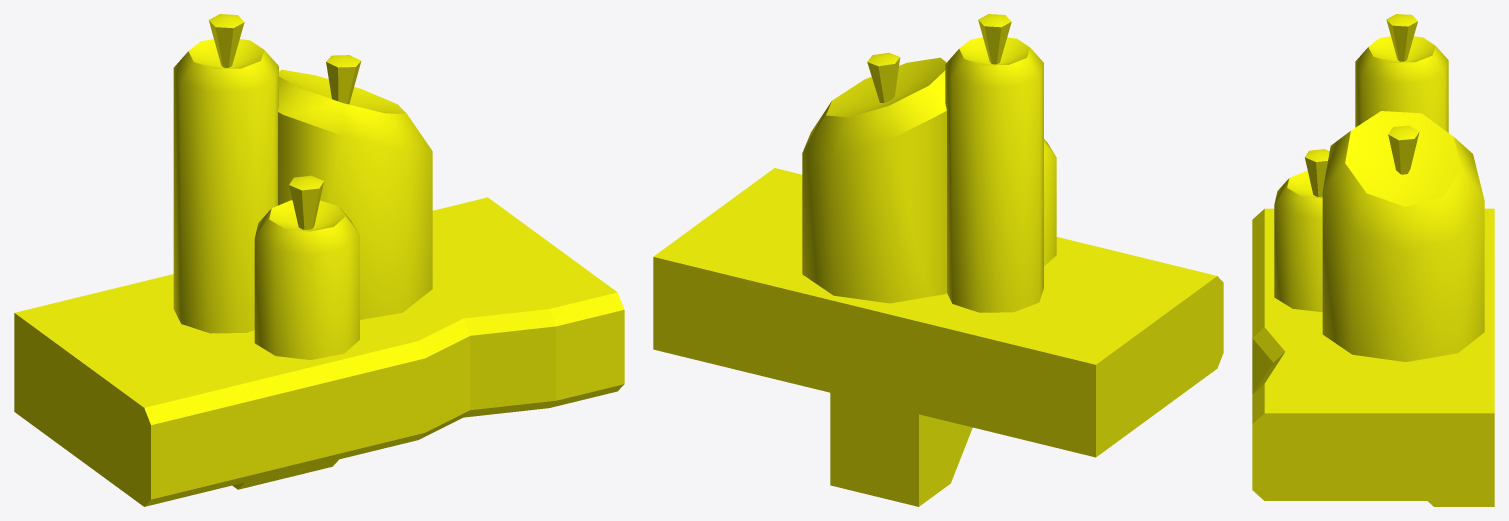
File: kaykit-shelf-small-candles.glb
3 renders of one model, left to right at view 1: azimuth 30°, elevation 25°; view 2: azimuth 150°, elevation 25°; view 3: azimuth 270°, elevation 25°, orthographic. The views are drawn at different scales.
Parts seen in each view (by area): view 1: shelf_small_candles; view 2: shelf_small_candles; view 3: shelf_small_candles.
Part boxes in pixels (left/top/right/bottom): shelf_small_candles: left=14, top=14, right=624, bottom=506; shelf_small_candles: left=653, top=14, right=1223, bottom=506; shelf_small_candles: left=1252, top=14, right=1494, bottom=506.
Size of the model in its own units: 1 by 0.9941 by 0.5001.
